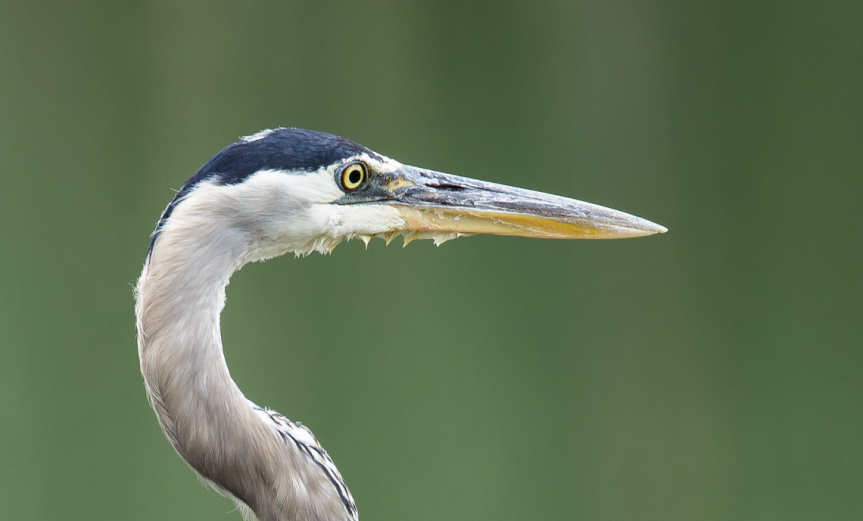heron: (130, 125, 665, 521)
